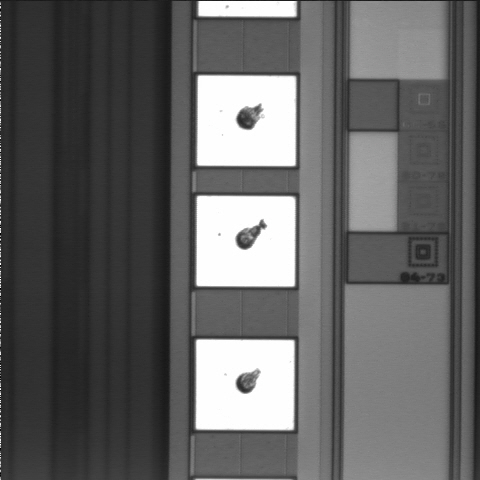pad: (197, 76, 296, 166), (197, 196, 295, 286), (196, 340, 294, 430)
